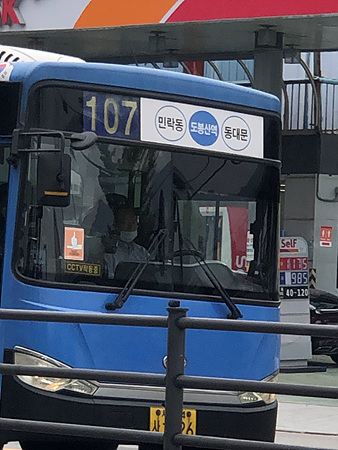bnum: (83, 94, 141, 137)
